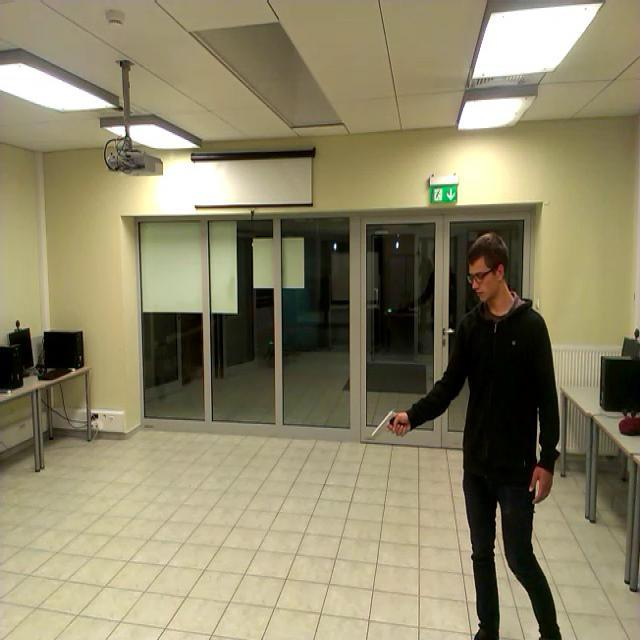Gun: (371, 409, 406, 437)
